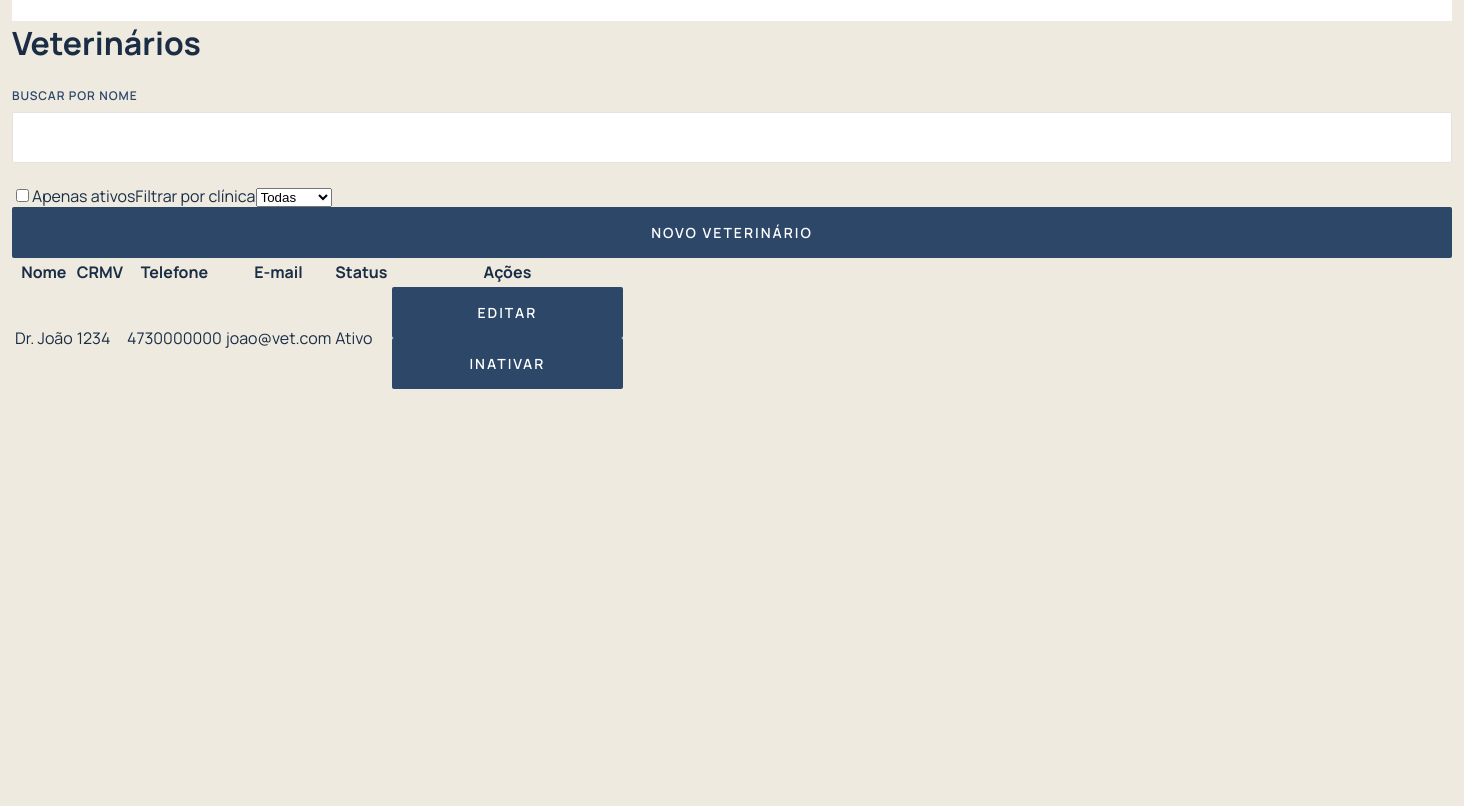
Scenario: TelaVeterinarios — formulários fecham só com sucesso (US1) › editar com falha mantém a linha em edição com os valores e a mensagem
Click the button "Editar".
click(507, 312)  # box [392, 287, 623, 338]
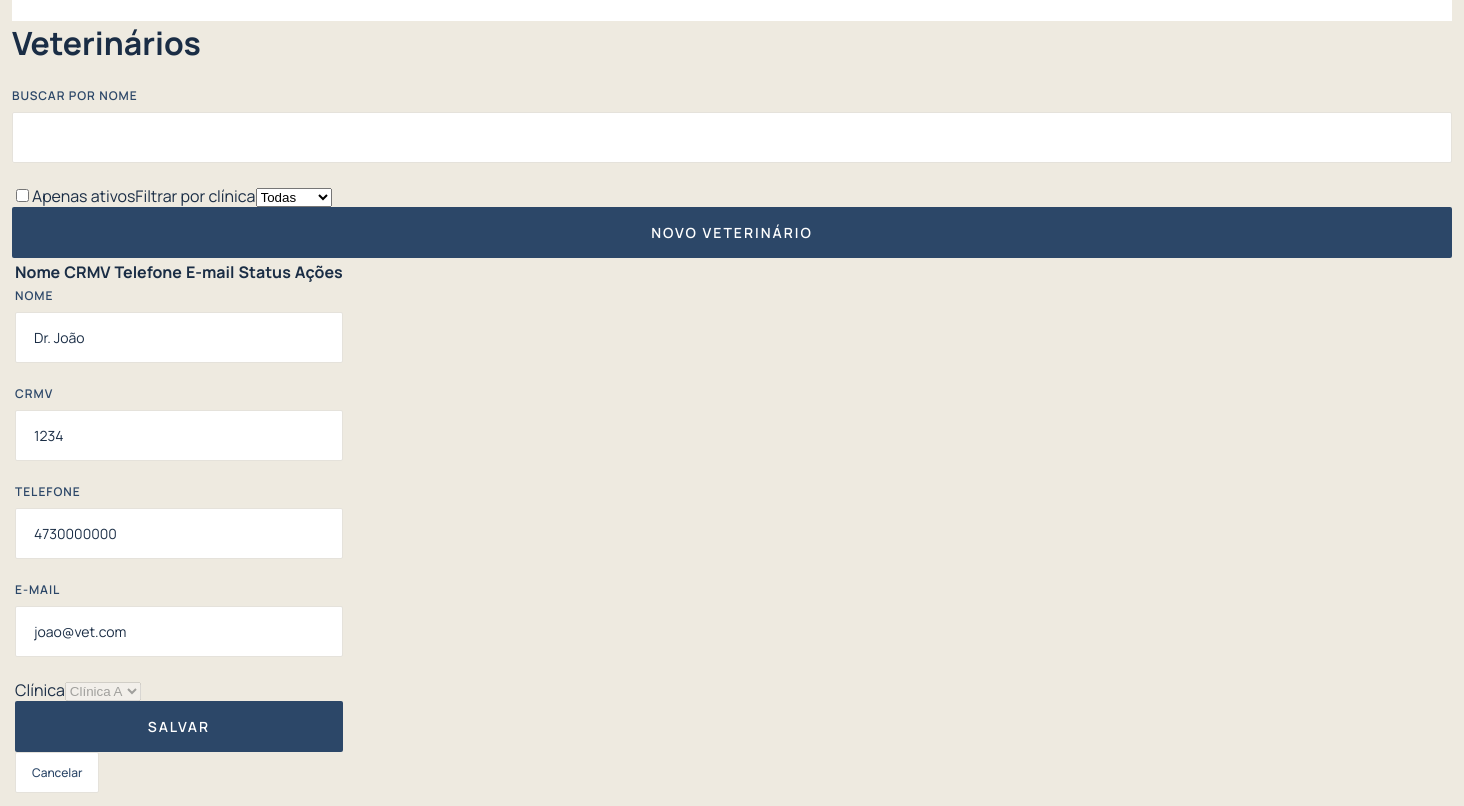
Replace the text in the field labelled "Telefone" with "999" at (179, 533), box [32, 523, 326, 544]
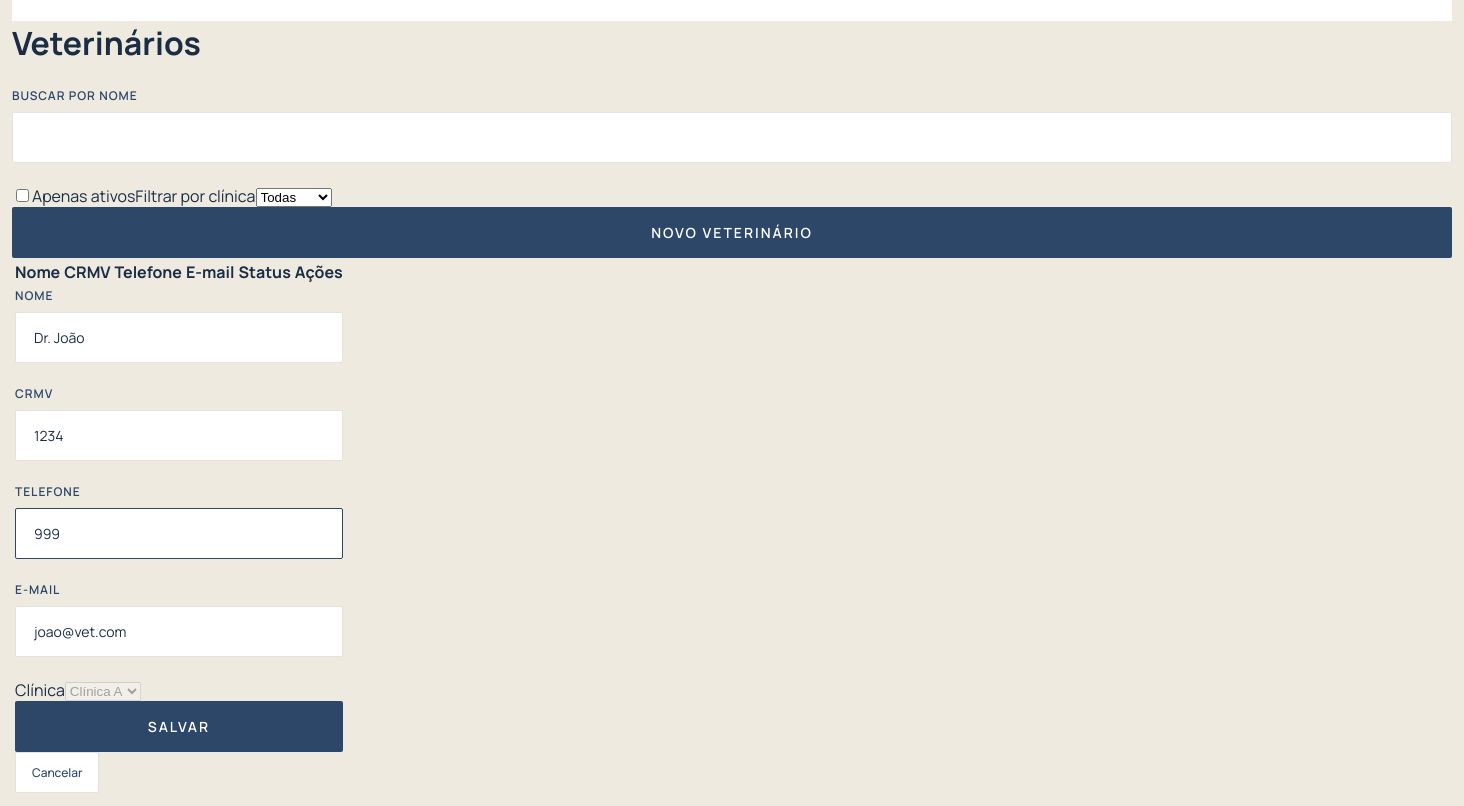
Click the button "Salvar".
click(179, 726)  # box [15, 701, 343, 752]
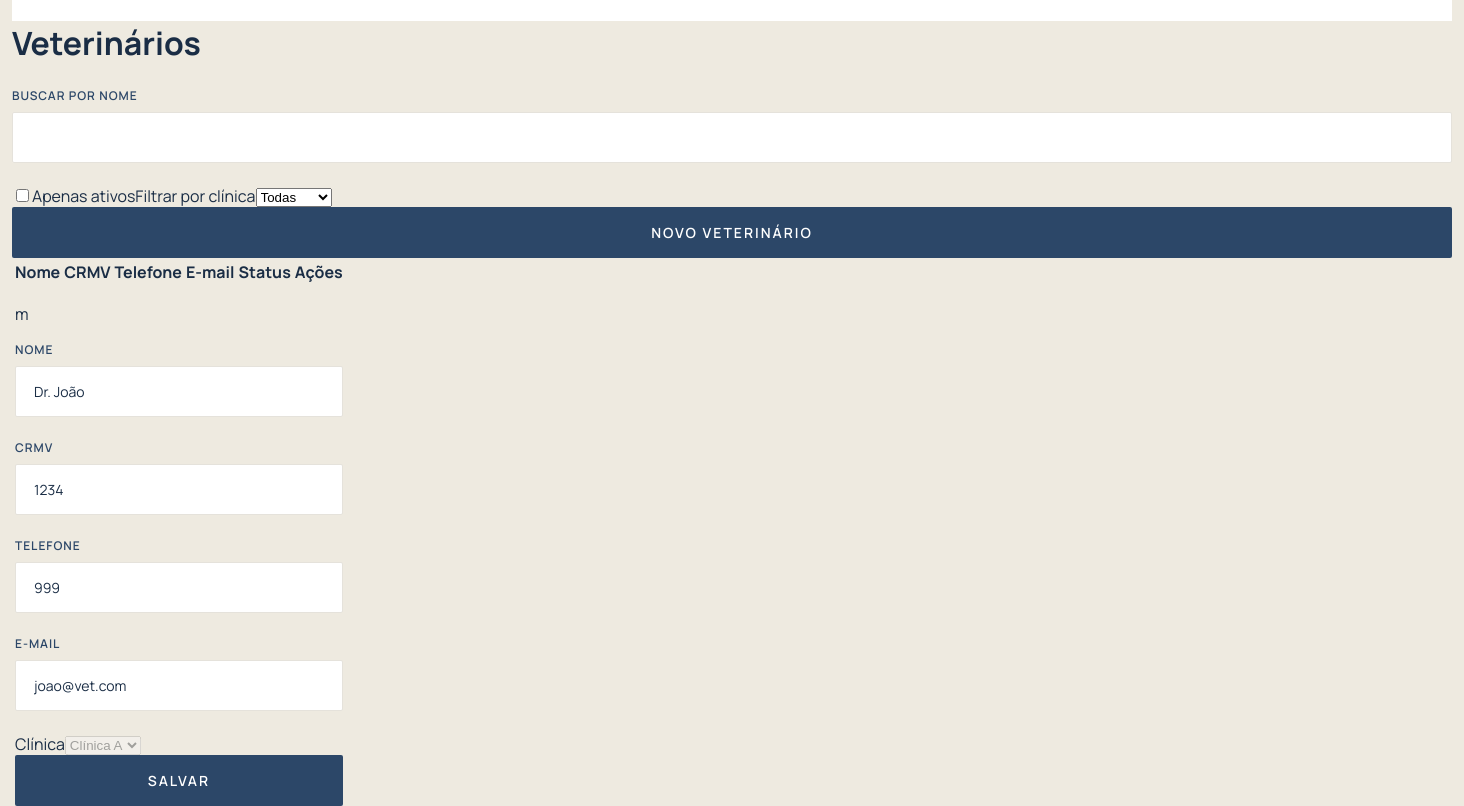
Expected: the message reads "m", [15, 303, 29, 325]
